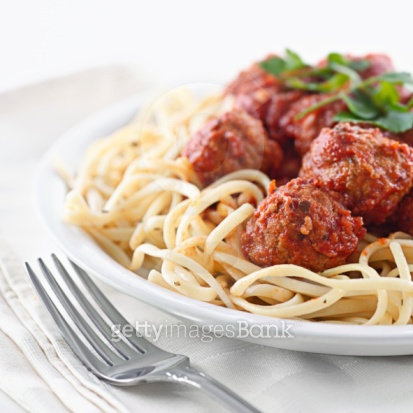meatballs: (253, 185, 351, 261), (310, 126, 403, 206), (191, 103, 282, 177)
plain spaghetti: (74, 99, 413, 327)
